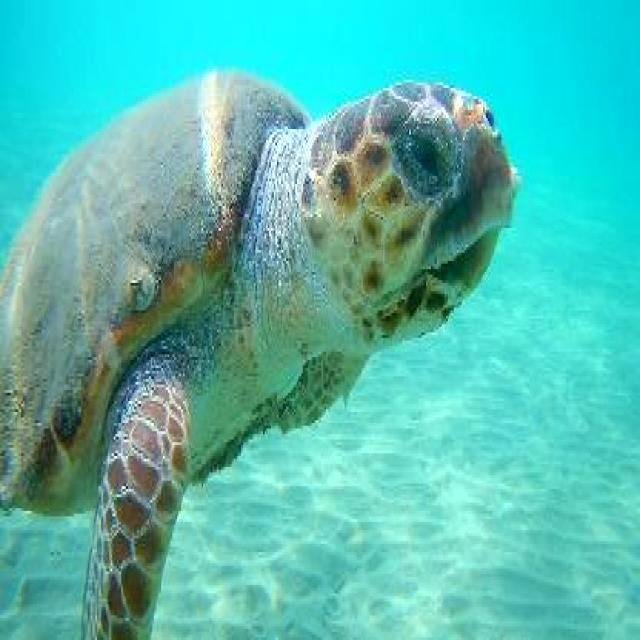Sea turtle: (0, 64, 523, 640)
